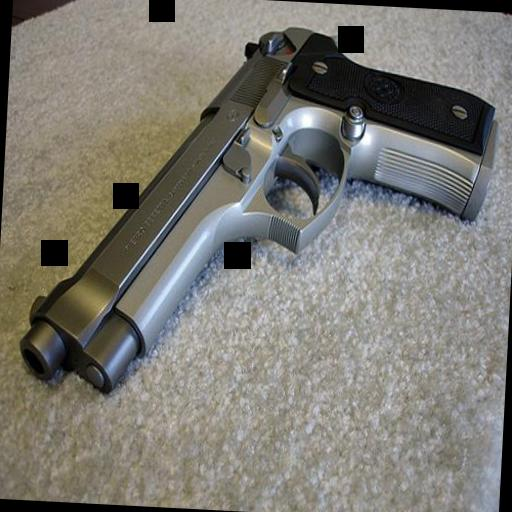Handgun: (18, 10, 498, 417)
